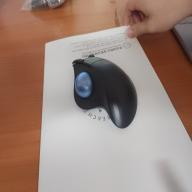mouse: (72, 53, 138, 129)
